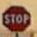stop: (1, 4, 31, 31)
